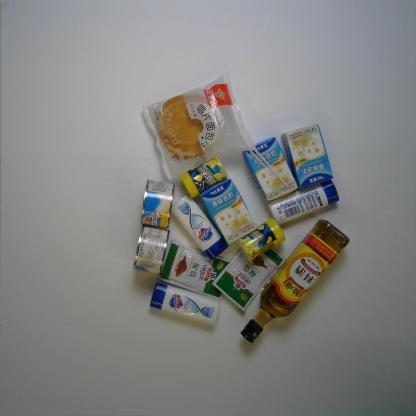Canned Food: (132, 223, 171, 276), (140, 178, 176, 230)
Dessert: (138, 68, 260, 185)
Gum: (235, 216, 287, 262), (178, 155, 230, 199)
Milk: (240, 134, 301, 204), (200, 176, 260, 247), (278, 122, 334, 190)
Personal Hygiene: (169, 192, 230, 262), (265, 177, 341, 226), (149, 280, 222, 327)
Seasoner: (237, 217, 352, 346), (211, 244, 289, 314), (156, 237, 235, 303)
